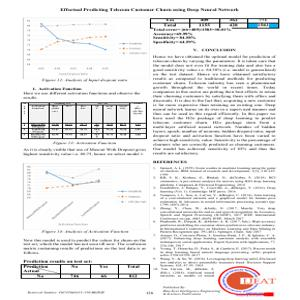diagram: (19, 159, 151, 231), (21, 16, 150, 84)
image: (216, 265, 280, 300)
table: (19, 99, 150, 143), (17, 260, 152, 282), (149, 18, 278, 32)
text: (155, 48, 276, 279), (21, 237, 151, 257), (56, 3, 243, 16)
